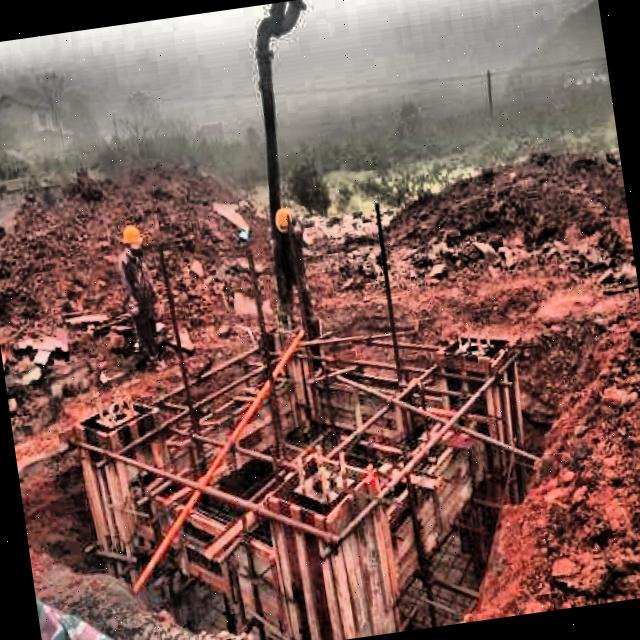helmet: (116, 218, 151, 262), (270, 205, 302, 238)
